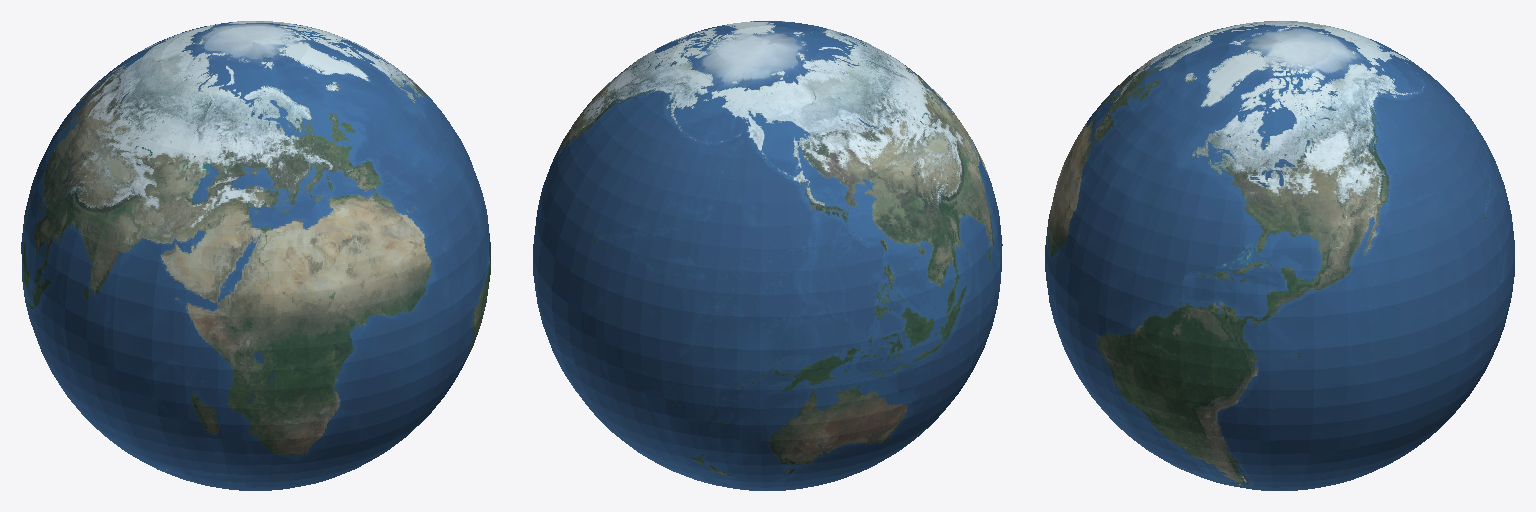
The picture shows the model from 3 angles: view 1: azimuth 30°, elevation 25°; view 2: azimuth 150°, elevation 25°; view 3: azimuth 270°, elevation 25°; orthographic projection.
Parts seen in each view (by area): view 1: earth; view 2: earth; view 3: earth.
Part boxes in pixels (x1,y1,x2,y2): earth: (21, 21, 490, 490); earth: (533, 21, 1002, 490); earth: (1045, 21, 1514, 490).
Size of the model in its own units: 2 by 2 by 2.
Materials: 1 (1 with a texture image).